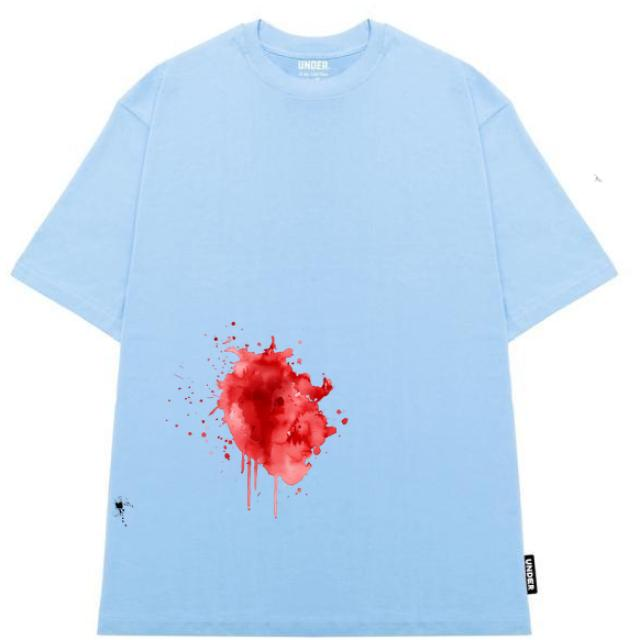stain: (196, 320, 338, 495), (104, 493, 143, 532)
